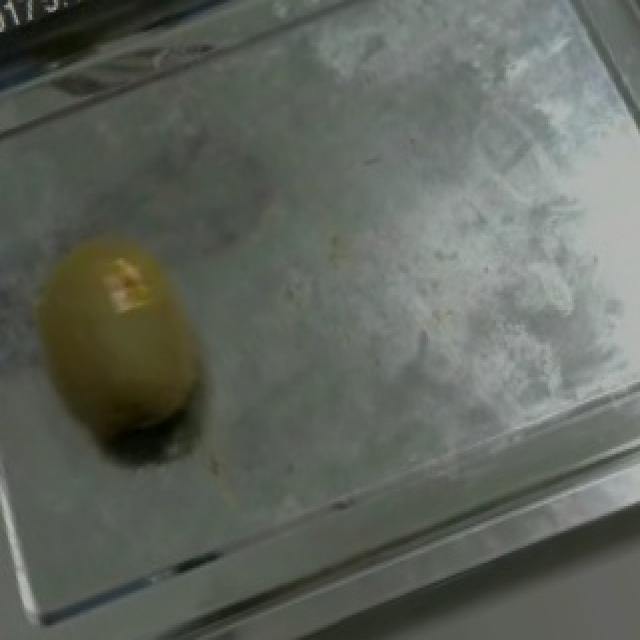Fruit: (0, 198, 244, 479)
